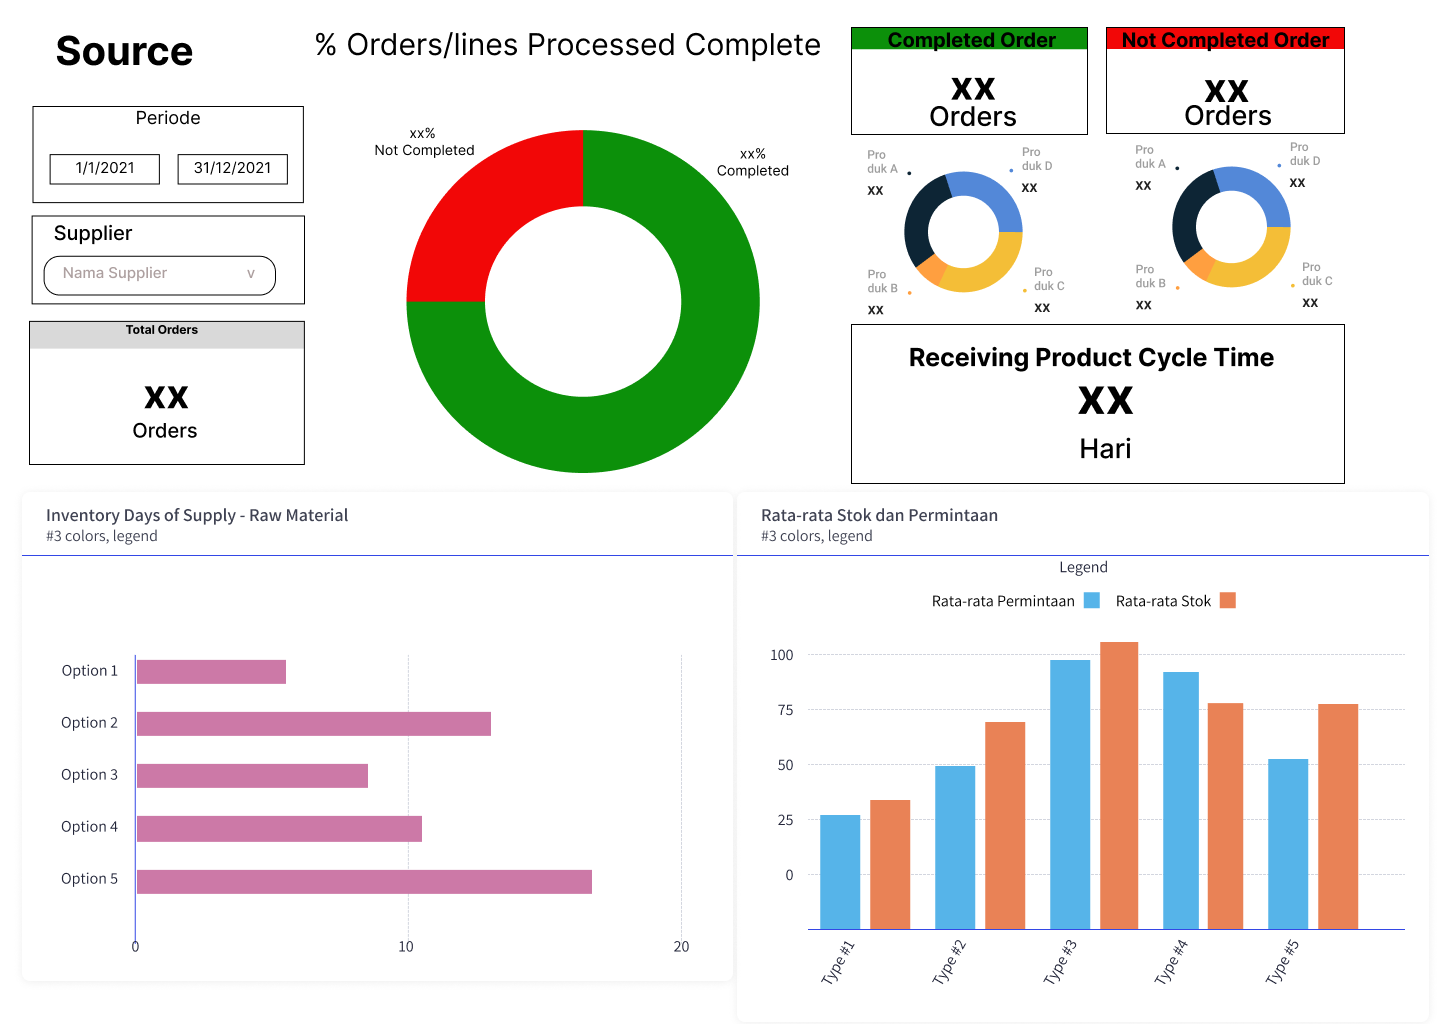

The page's visual inventory and layout, read from the dashboard file:
{"tool":"powerbi","page":{"name":"Source","canvas":[1280,720],"ordinal":0},"visuals":[{"type":"slicer","title":"Date Selection","fields":{"Values":["order date.Date"]},"box":[18.5,62.2,344.4,109.2],"z":0},{"type":"tableEx","fields":{"Values":["Stock.Produk","Stock.Order Qty"]},"box":[893.6,38.6,371.2,208.3],"z":1000},{"type":"card","fields":{"Values":["Receive Order.MeasureCompleted"]},"box":[674.9,0,214.3,125.7],"z":2000},{"type":"card","fields":{"Values":["Receive Order.MeasureNotCompleted"]},"box":[674.9,122.9,214.3,124.3],"z":3000},{"type":"pieChart","title":"% Orders Process Completed","fields":{"Y":["Receive Order.MeasureCompleted","Receive Order.MeasureNotCompleted"]},"box":[379,13.2,295.6,234.1],"z":4000},{"type":"slicer","fields":{"Values":["Source.Supplier"]},"box":[20.2,162.9,325.9,90.7],"z":5000},{"type":"textbox","box":[902.1,0,338,38],"z":6000},{"type":"textbox","box":[20.2,13.4,325.9,48.7],"z":7000},{"type":"lineStackedColumnComboChart","fields":{"Category":["List Produk.List Produk"],"Y":["Source.Inventory Days of Supply","Source.Receive Cycle Time"]},"box":[33.6,246.9,1231.3,473.7],"z":8000}]}

Visuals, with their boxes on the page's 1280x720 design canvas (x1, y1, x2, y2). These are canvas units, not pixel positions in the 1440x1024 screenshot, which may show the page scaled, cropped or inside an application window:
"Date Selection" slicer: x1=18, y1=62, x2=363, y2=171
tableEx - Stock.Produk x Stock.Order Qty: x1=894, y1=39, x2=1265, y2=247
card - Receive Order.MeasureCompleted: x1=675, y1=0, x2=889, y2=126
card - Receive Order.MeasureNotCompleted: x1=675, y1=123, x2=889, y2=247
"% Orders Process Completed" pieChart: x1=379, y1=13, x2=675, y2=247
slicer - Source.Supplier: x1=20, y1=163, x2=346, y2=254
textbox: x1=902, y1=0, x2=1240, y2=38
textbox: x1=20, y1=13, x2=346, y2=62
lineStackedColumnComboChart - List Produk.List Produk x Source.Inventory Days of Supply: x1=34, y1=247, x2=1265, y2=721
